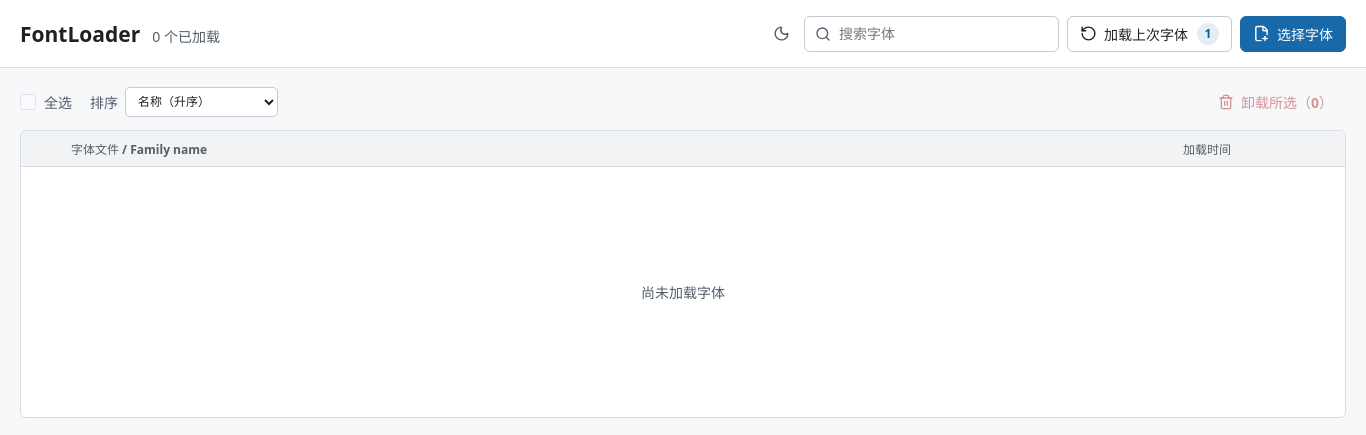
App › clears the history count but keeps the restore button after choosing fonts
The width and height of the screenshot is (1366, 435).
Expected: the text with class "history-count" reads "1", [1205,24,1212,42]
Click the button "选择字体" at (1293, 34), box [1240,16,1346,52]
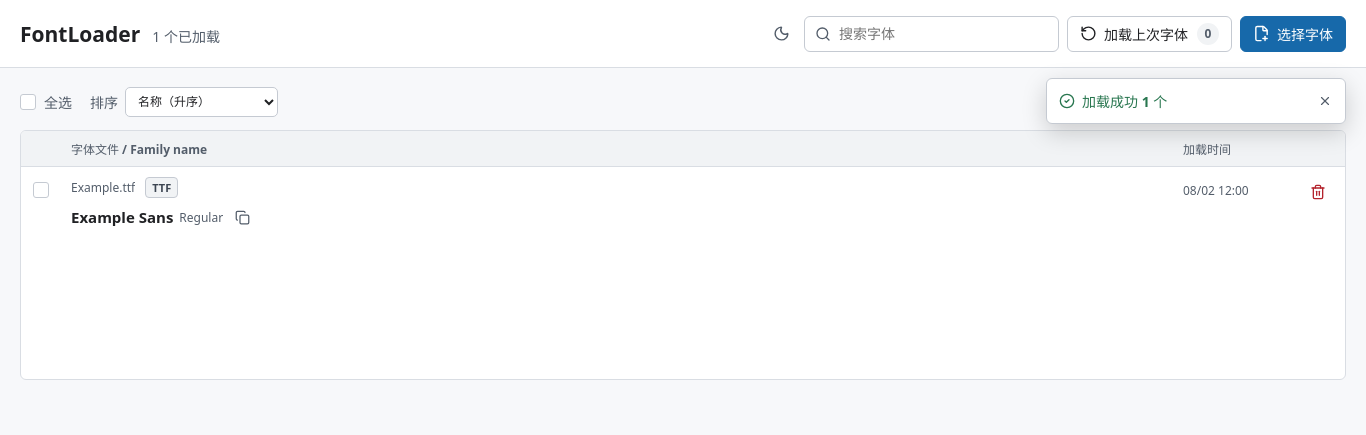
Expected: the button with test id "load-last-fonts" is enabled, [1067,16,1232,52]
Expected: the text with class "history-count" reads "0", [1205,24,1212,42]
